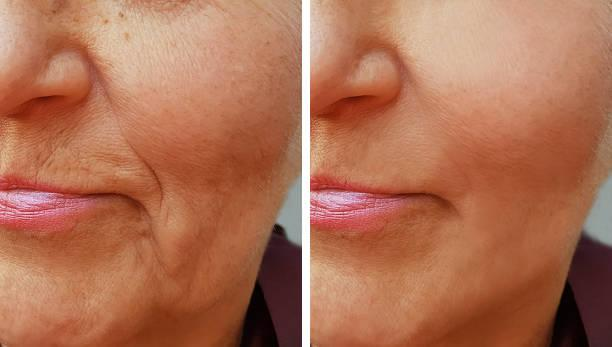Dry-Skin: (104, 18, 287, 245)
